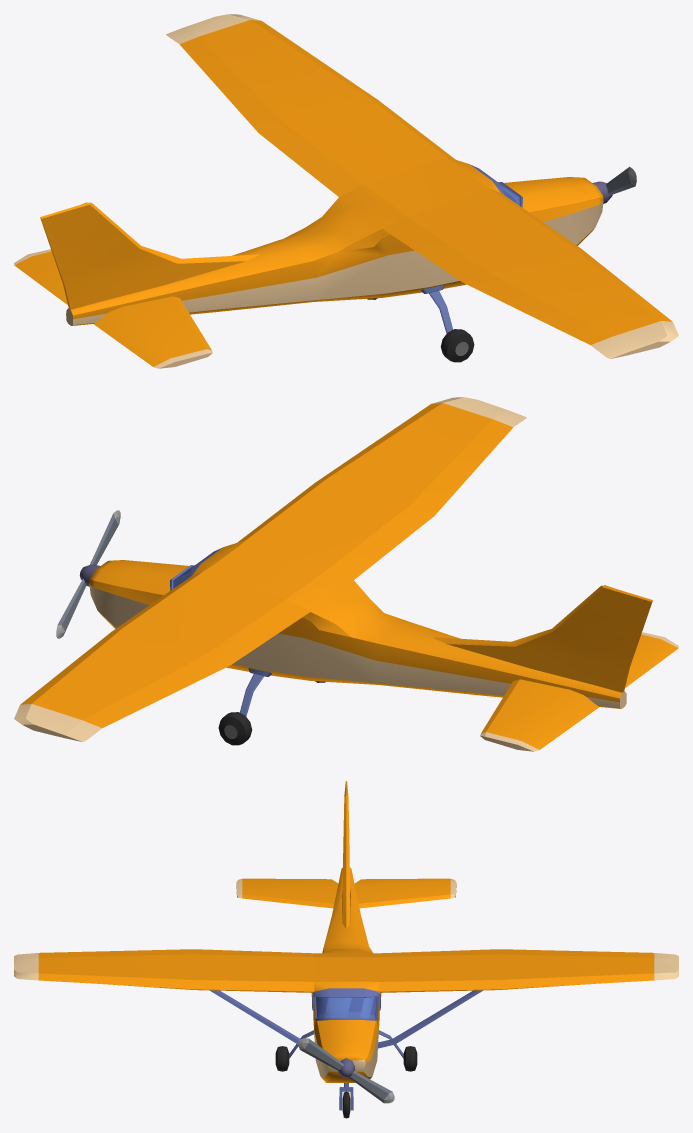
3 renders of one model, top to bottom at view 1: azimuth 30°, elevation 25°; view 2: azimuth 150°, elevation 25°; view 3: azimuth 270°, elevation 25°, orthographic. The views are drawn at different scales.
Visible parts, largest first — view 1: Plane_2_B, Propeler; view 2: Plane_2_B, Propeler; view 3: Plane_2_B, Propeler.
Boxes of the visible parts, x1,y1,x2,y2 form: Plane_2_B: [14, 14, 678, 368]; Propeler: [606, 166, 636, 195]; Plane_2_B: [14, 397, 678, 751]; Propeler: [56, 510, 120, 638]; Plane_2_B: [14, 781, 678, 1118]; Propeler: [298, 1038, 394, 1103].
Bounding box in the file's own units: 12.41 × 4.29 × 16.66.
3 materials, 3 textured.
